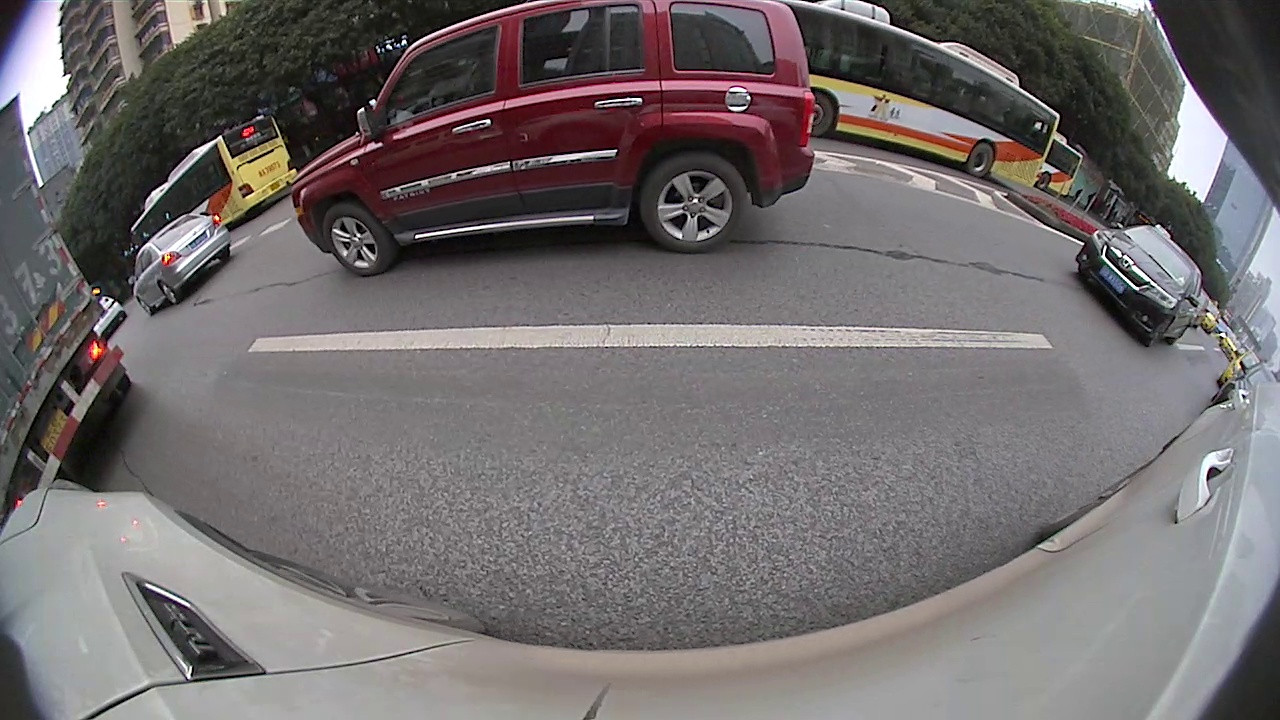bus: (783, 1, 1057, 197), (141, 112, 300, 234), (1039, 138, 1086, 196)
car: (291, 3, 809, 280), (1079, 226, 1202, 349), (139, 213, 233, 313)
front: (320, 204, 395, 277), (810, 93, 833, 136), (1149, 315, 1175, 348), (135, 296, 158, 321)
rear: (637, 153, 744, 254), (969, 141, 990, 177), (158, 279, 181, 306), (1038, 173, 1053, 187)
truck: (1, 93, 134, 500)
